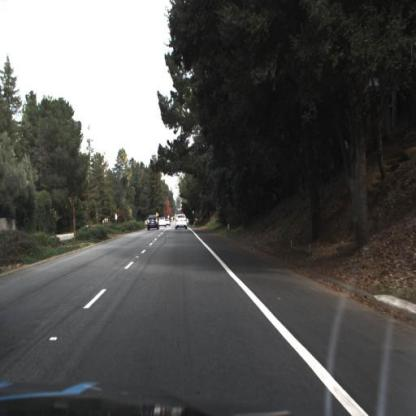car: (172, 211, 192, 234), (146, 213, 162, 235), (158, 217, 167, 231)
